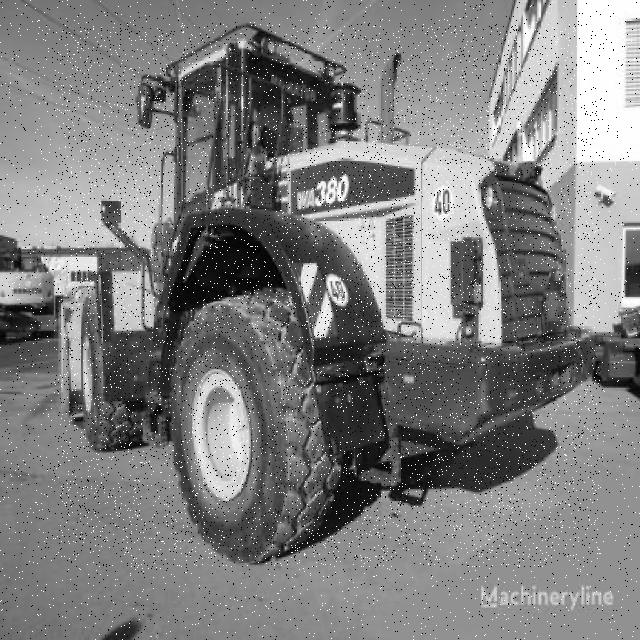Construction Equipment: (58, 24, 601, 567)
